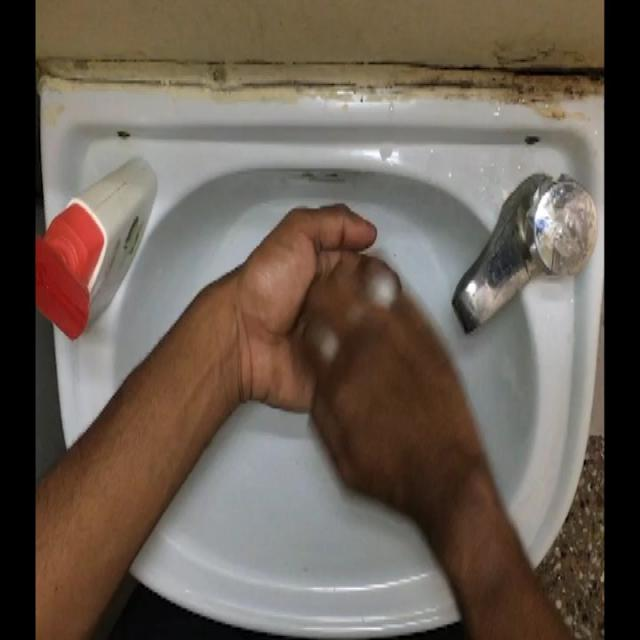step_4: (230, 190, 448, 493)
